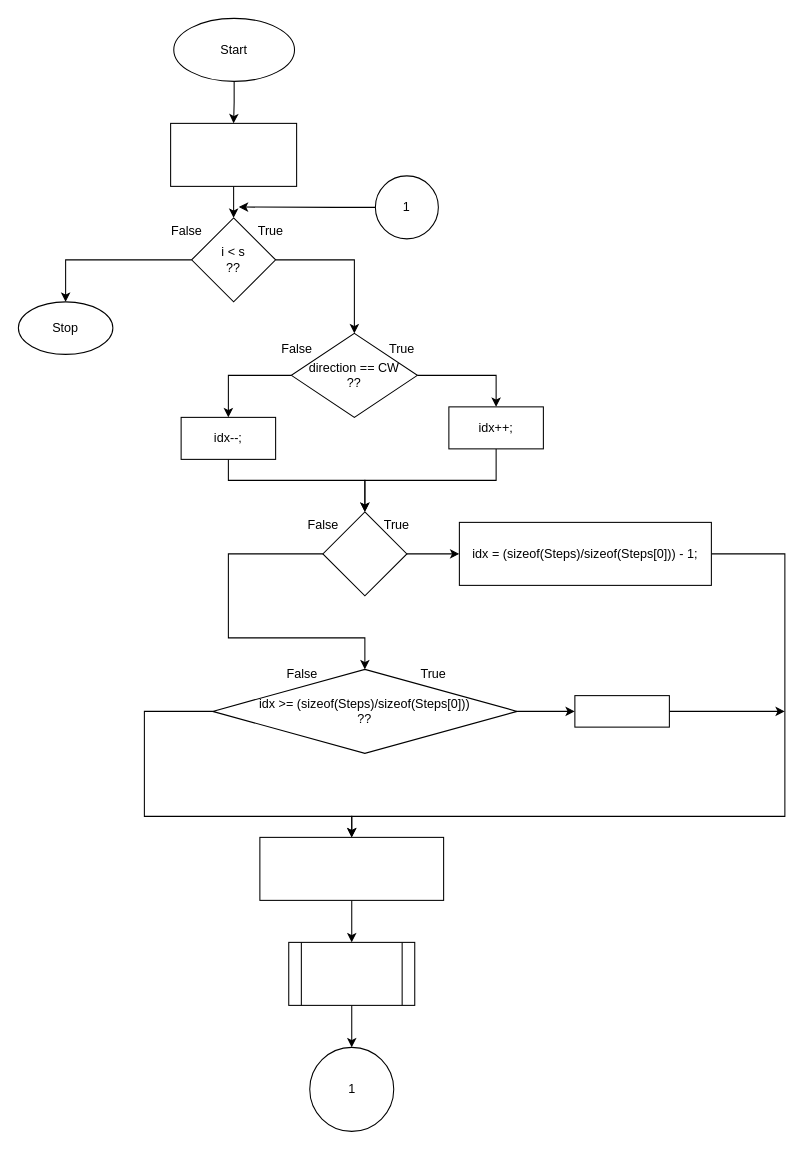
The diagram is 812 pixels wide and 1150 high, and some of its shapes have lost their labels. Here are the shapes that lost their labels. From the top down, the box of each, then its label:
(170, 122, 297, 186): int i = 0; static int idx = 0;
(322, 511, 407, 596): idx < 0 ??
(574, 695, 669, 727): idx = 0;
(259, 836, 444, 900): *Stepper = Steps[idx]; i++;
(288, 941, 415, 1005): DelayMs(10);
